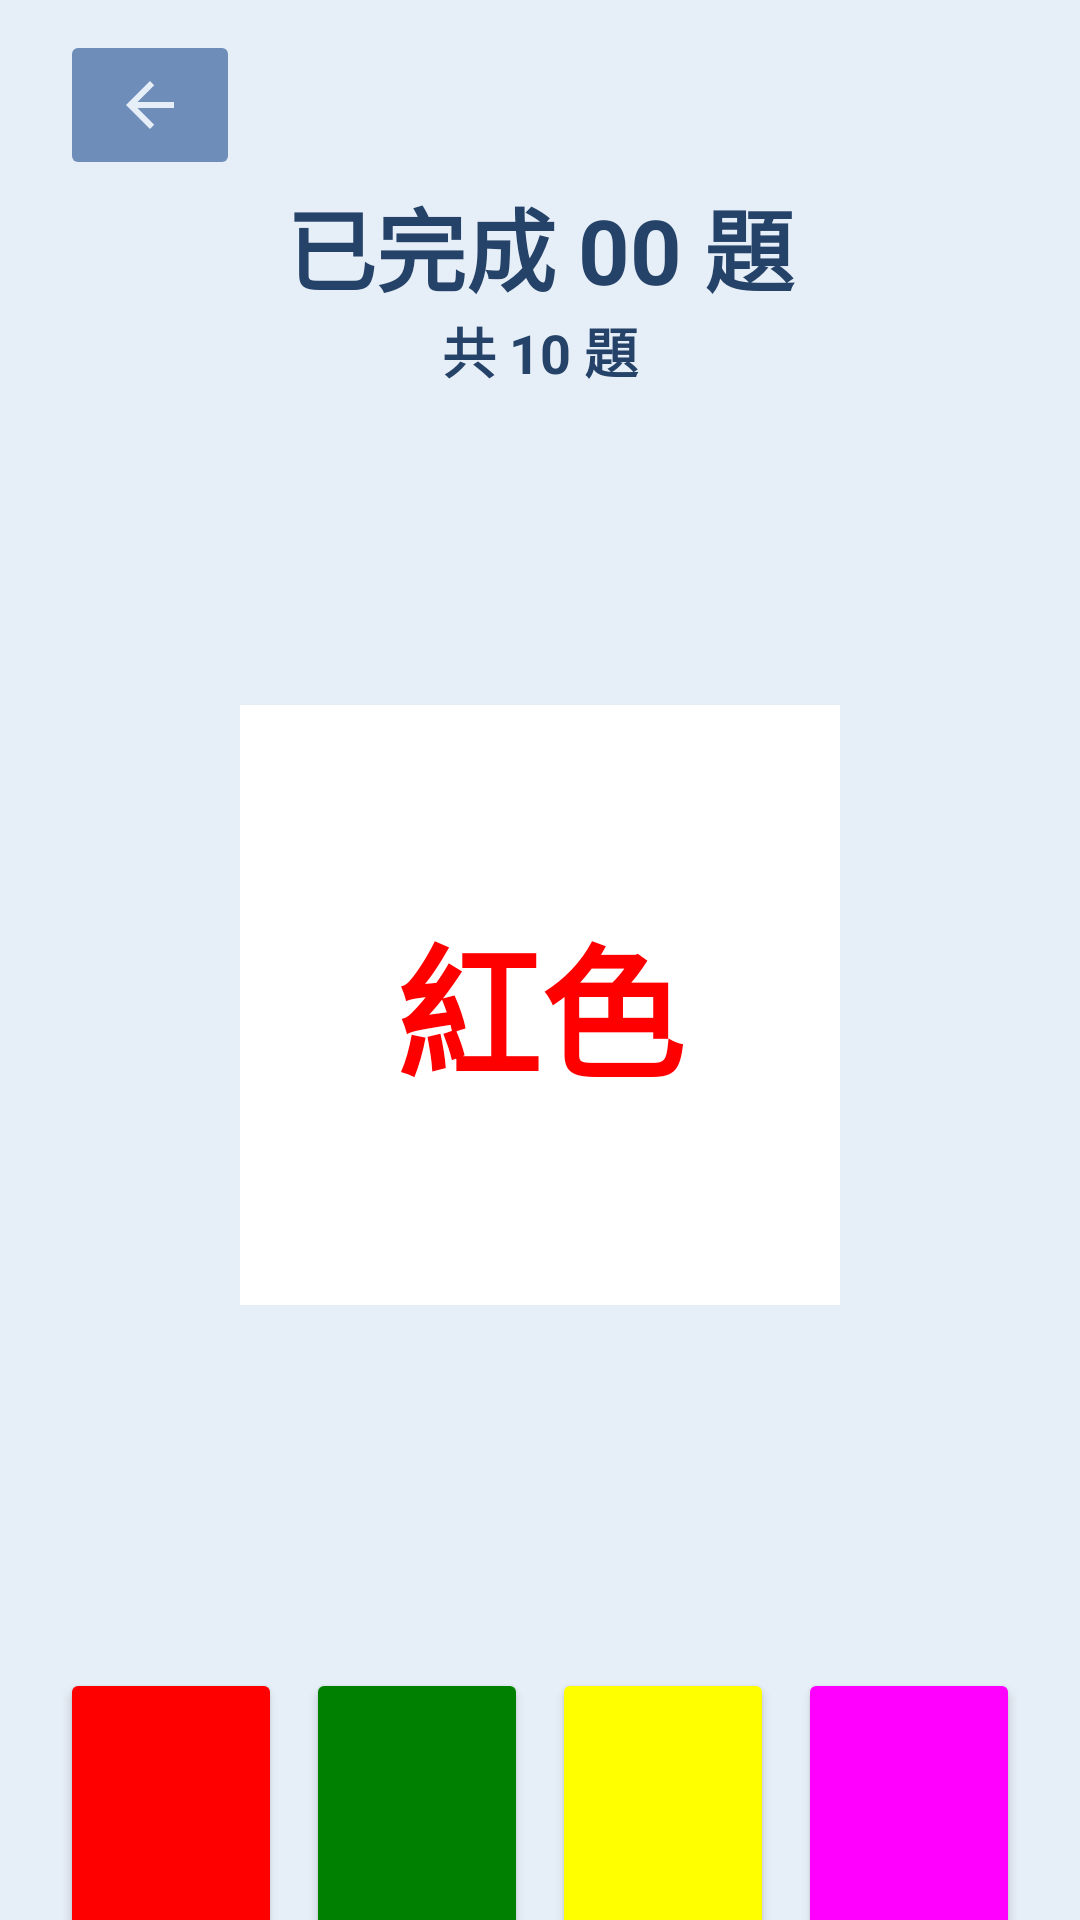

Screen size 1080 x 1920. Icon name, then its box in pixels as [x1, y1, x2, y2]:
back arrow: [72, 48, 228, 162]
